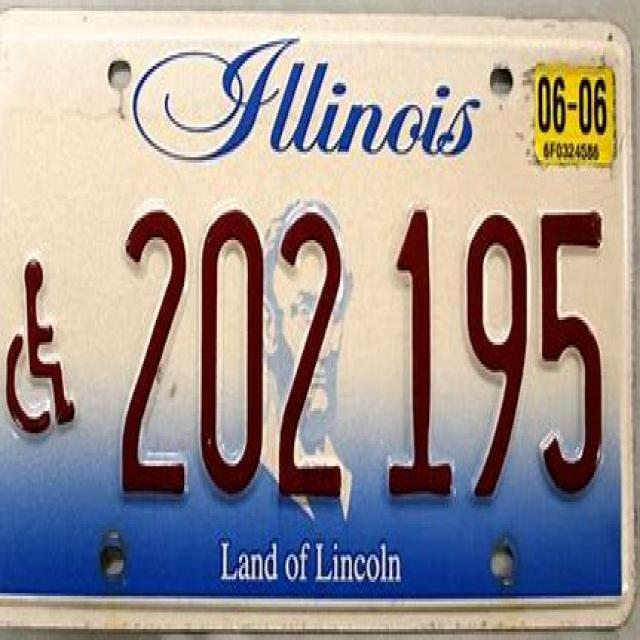symbol_of_access: (3, 255, 78, 442)
